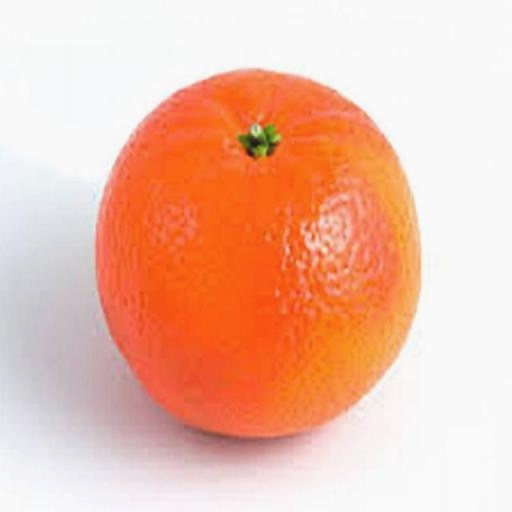fruit: (96, 70, 419, 436)
